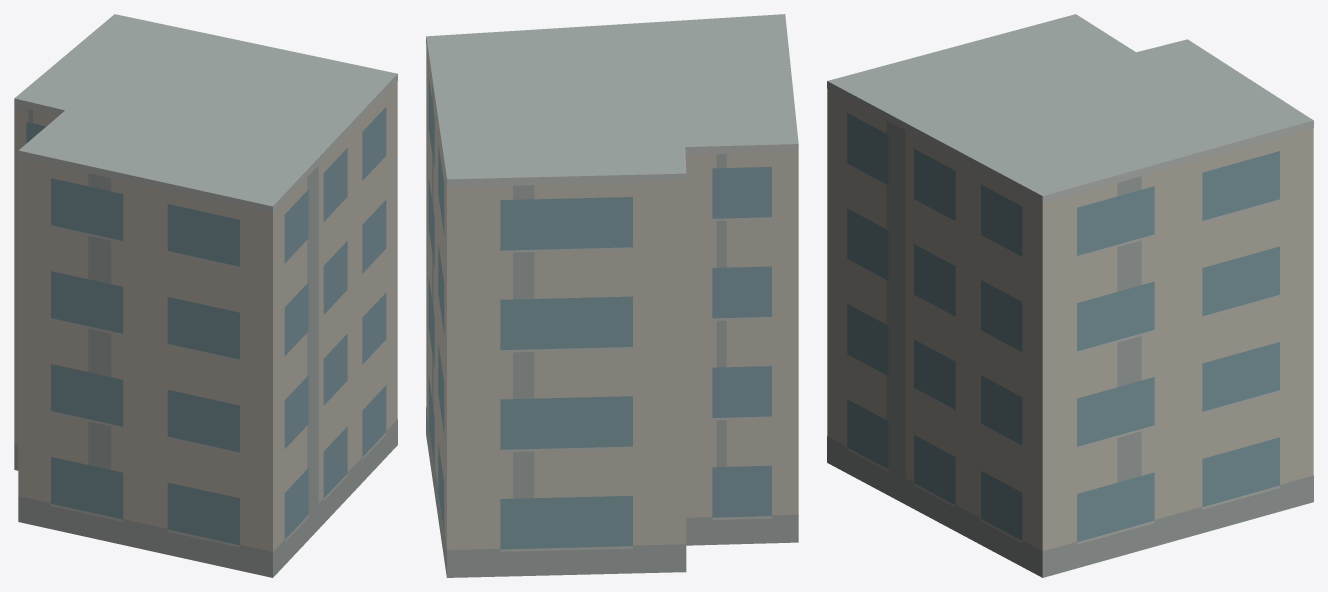
The model's file is residential-2b4b2fcf-9f80-45b5-a547-2784b5bfaee4.glb.
3 renders of one model, left to right at view 1: azimuth 30°, elevation 25°; view 2: azimuth 150°, elevation 25°; view 3: azimuth 270°, elevation 25°, orthographic. The views are drawn at different scales.
Parts seen in each view (by area): view 1: residential-2b4b2fcf-9f80-45b5-a547-2784b5bfaee4.tmp; view 2: residential-2b4b2fcf-9f80-45b5-a547-2784b5bfaee4.tmp; view 3: residential-2b4b2fcf-9f80-45b5-a547-2784b5bfaee4.tmp.
Boxes of the visible parts, x1,y1,x2,y2 form: residential-2b4b2fcf-9f80-45b5-a547-2784b5bfaee4.tmp: (14, 14, 397, 577); residential-2b4b2fcf-9f80-45b5-a547-2784b5bfaee4.tmp: (426, 14, 798, 577); residential-2b4b2fcf-9f80-45b5-a547-2784b5bfaee4.tmp: (827, 14, 1313, 577).
Bounding box in the file's own units: 12.49 × 12.2 × 14.1.
